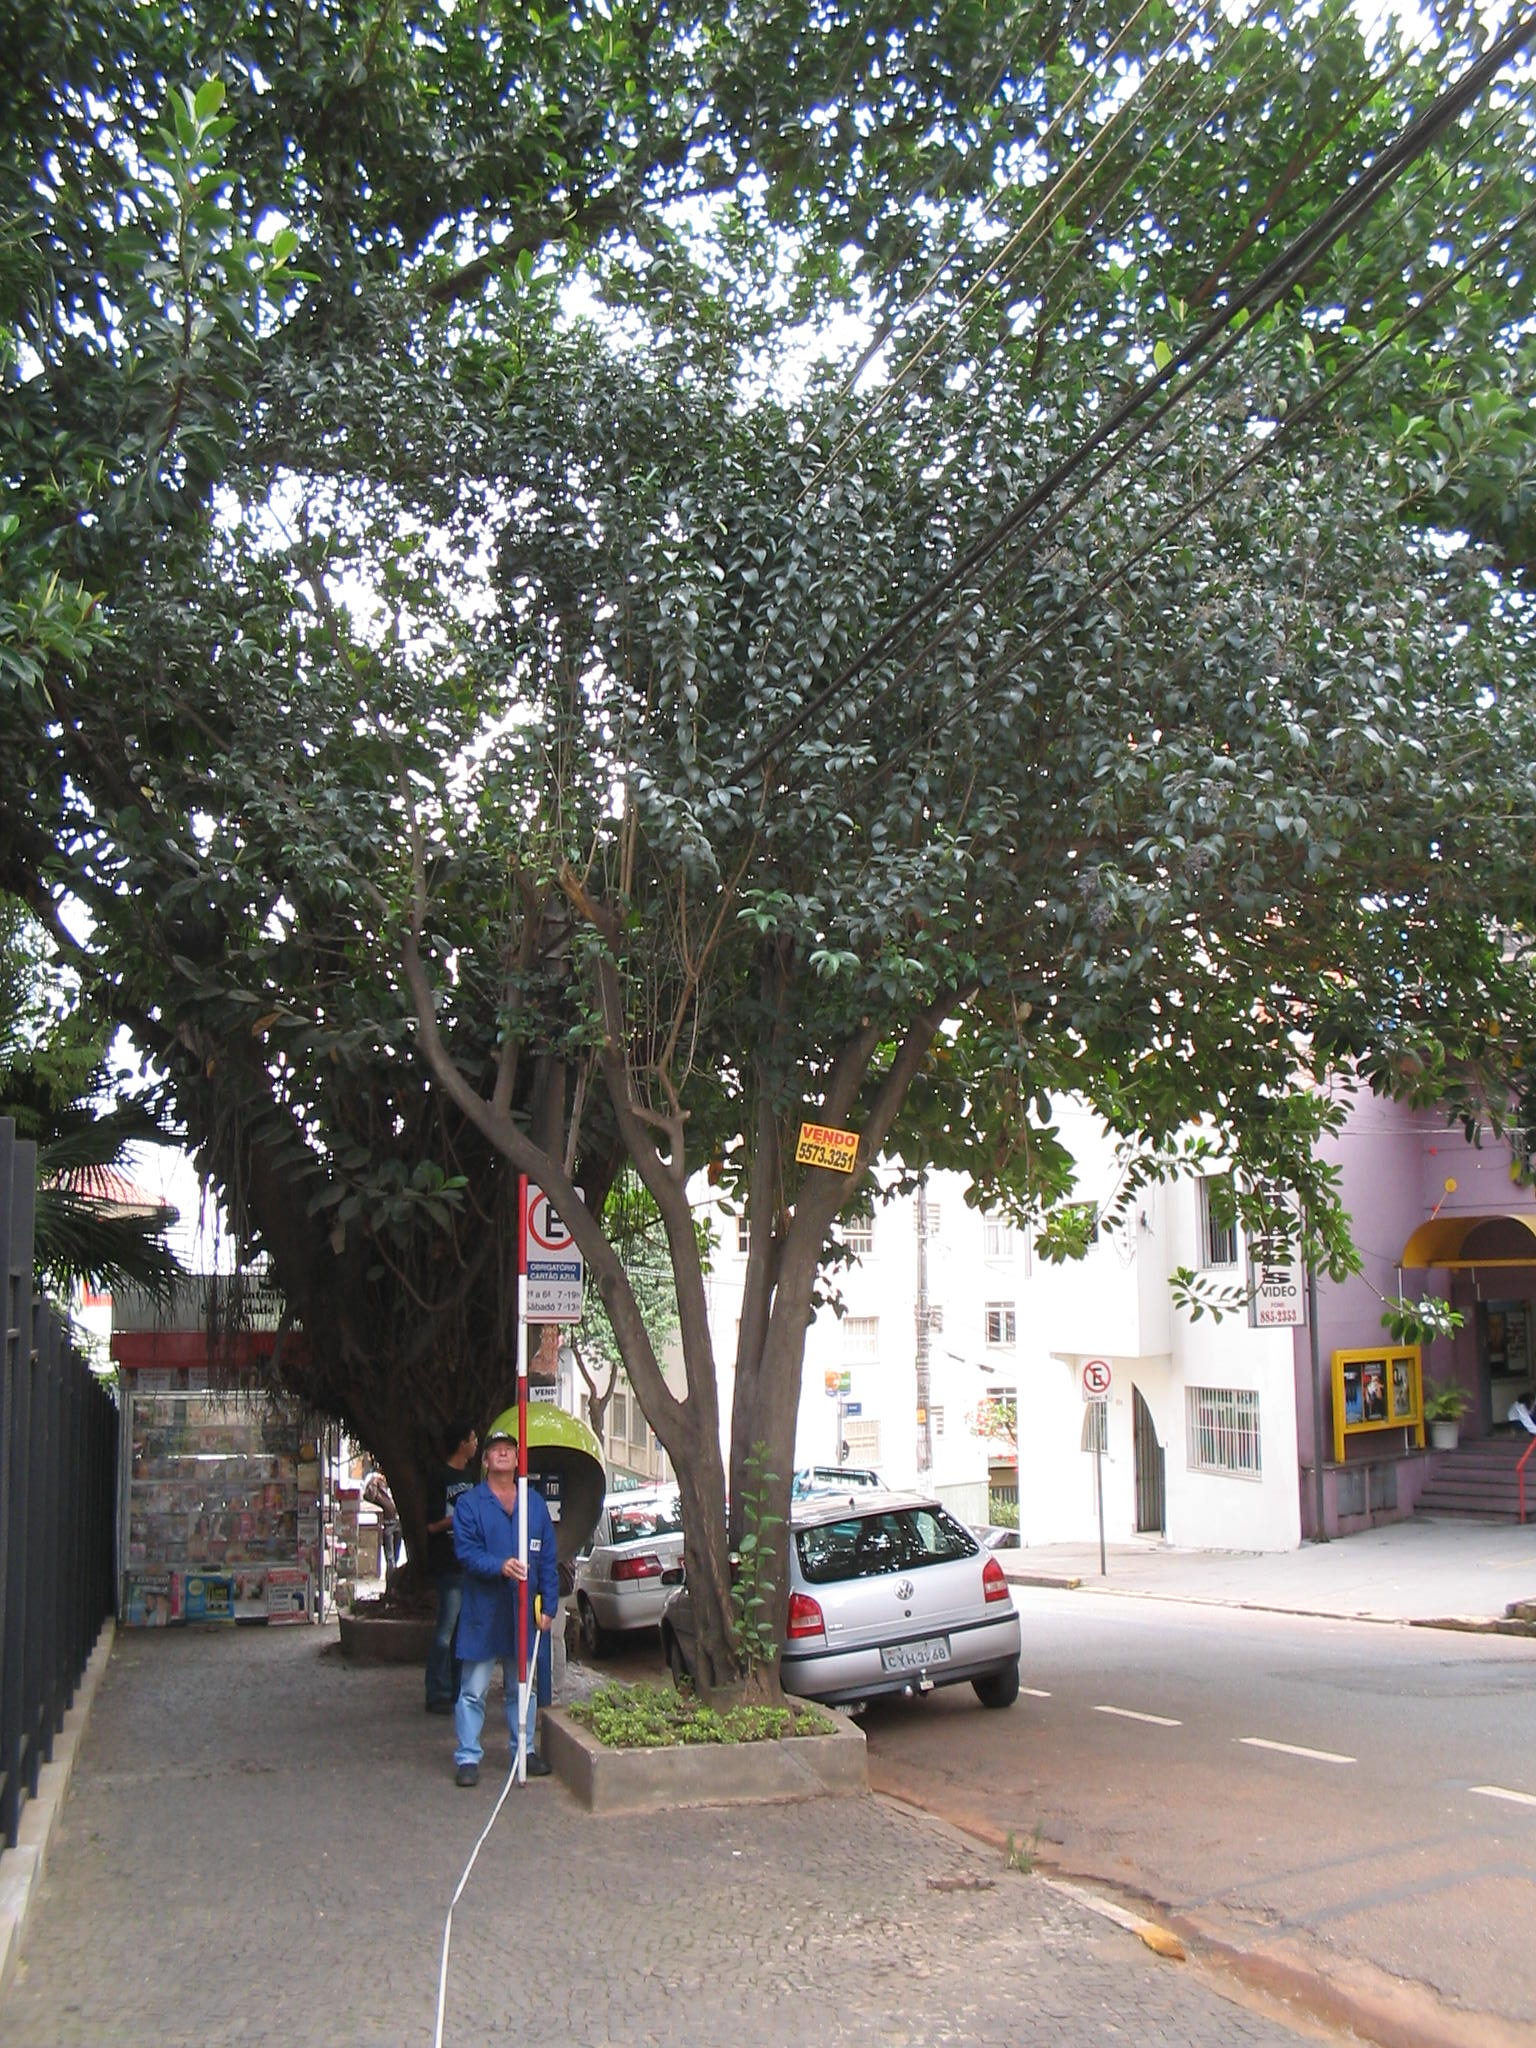crown: (365, 340, 1486, 1297)
stem: (678, 1505, 815, 1711)
stick: (486, 1171, 560, 1788)
tree: (357, 337, 1494, 1729)
